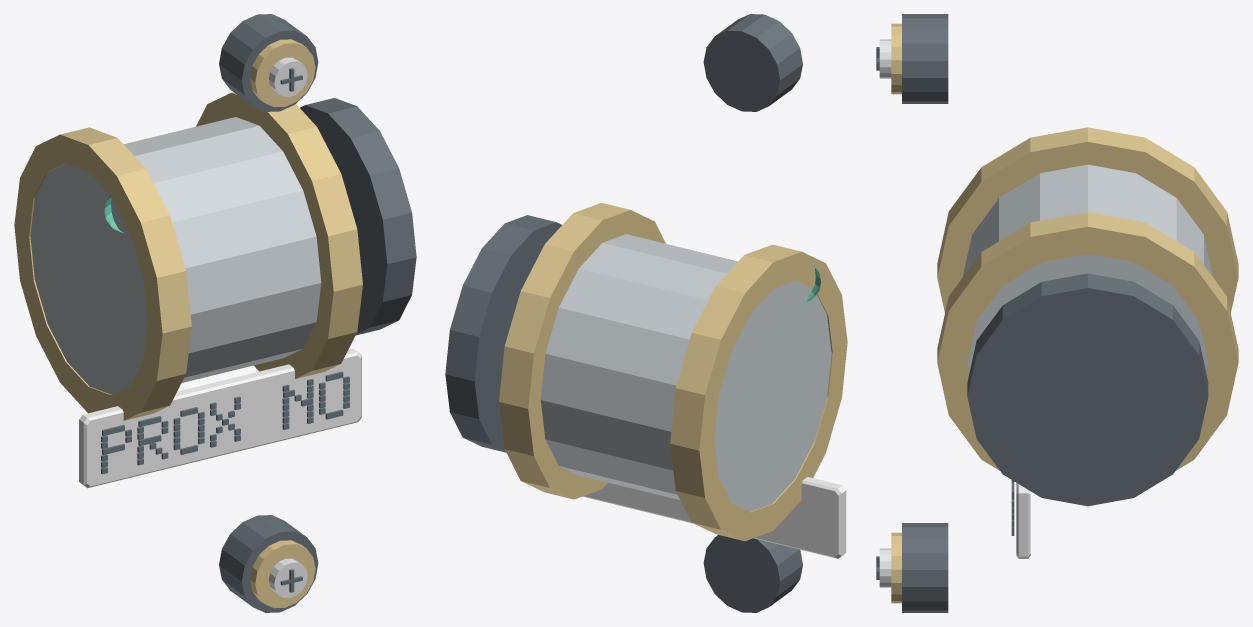
Rendered from sensor.glb.
The picture shows the model from 3 angles, left to right: view 1: azimuth 30°, elevation 25°; view 2: azimuth 150°, elevation 25°; view 3: azimuth 270°, elevation 25°; orthographic projection.
Parts seen in each view (by area): view 1: sensor-preview; view 2: sensor-preview; view 3: sensor-preview.
Part boxes in pixels (bbox=[...]): sensor-preview: bbox=[14, 14, 416, 612]; sensor-preview: bbox=[445, 14, 847, 612]; sensor-preview: bbox=[876, 14, 1238, 612].
Bounding box in the file's own units: 1.26 × 2.27 × 1.26.
